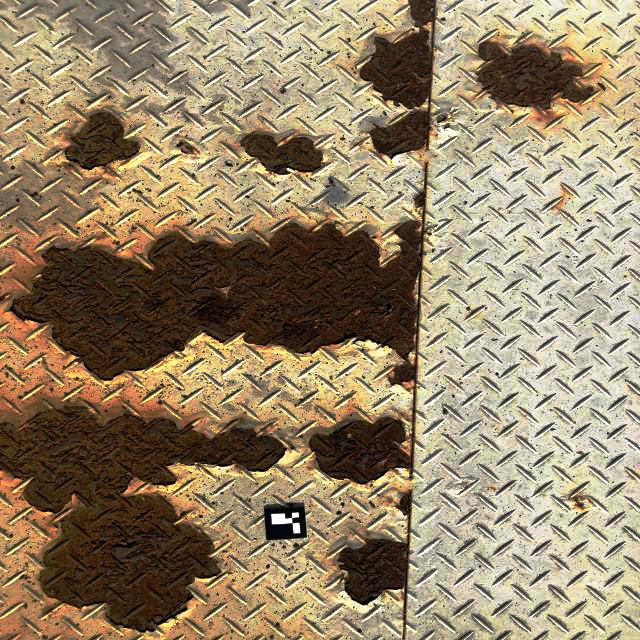Corrosion: (10, 220, 422, 380), (0, 407, 285, 633), (359, 0, 435, 108), (478, 41, 594, 109), (309, 418, 411, 485), (338, 540, 408, 606), (63, 111, 139, 169), (240, 130, 322, 174), (369, 109, 429, 157), (388, 361, 415, 385), (396, 493, 412, 516), (177, 141, 198, 156), (414, 192, 426, 207), (574, 494, 586, 508)
